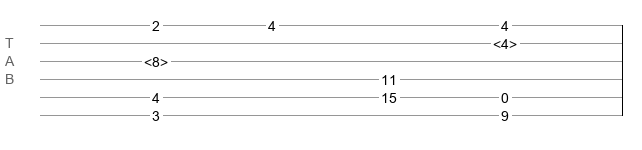0: (501, 90, 509, 100)
11: (381, 72, 397, 82)
15: (381, 90, 397, 100)
2: (152, 18, 160, 28)
3: (152, 108, 160, 118)
4: (152, 90, 160, 100), (268, 18, 276, 28), (501, 18, 509, 28)
9: (501, 108, 509, 118)
harmonic: (144, 54, 168, 64), (493, 36, 517, 46)
